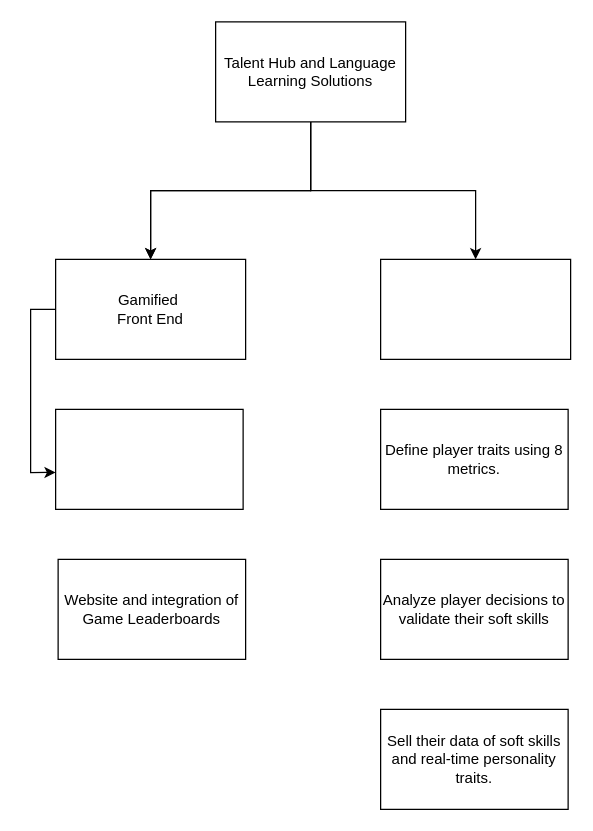
The diagram is 593 pixels wide and 831 high, and some of its shapes have lost their labels. The box of each missing label's shape, as (x1, y1, x2, y2) in pixels:
Back End Integration: (379, 258, 571, 359)
Learning Language & Psychometric Game: (54, 408, 243, 509)
